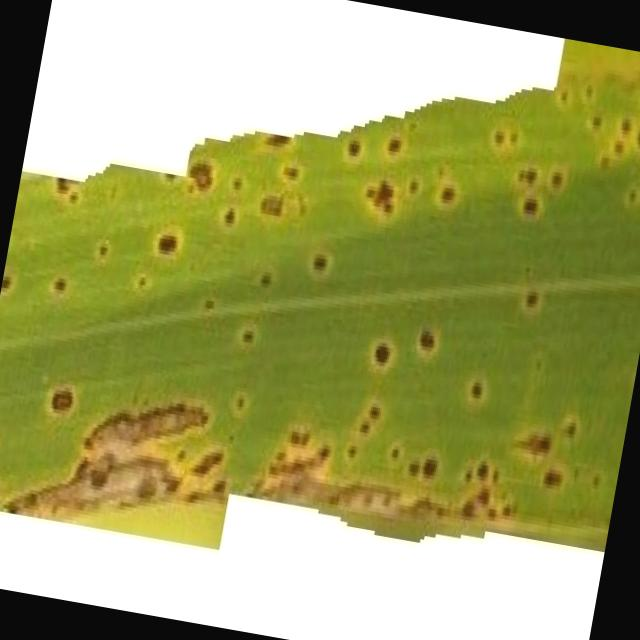leaf_spot: (0, 39, 640, 548)
